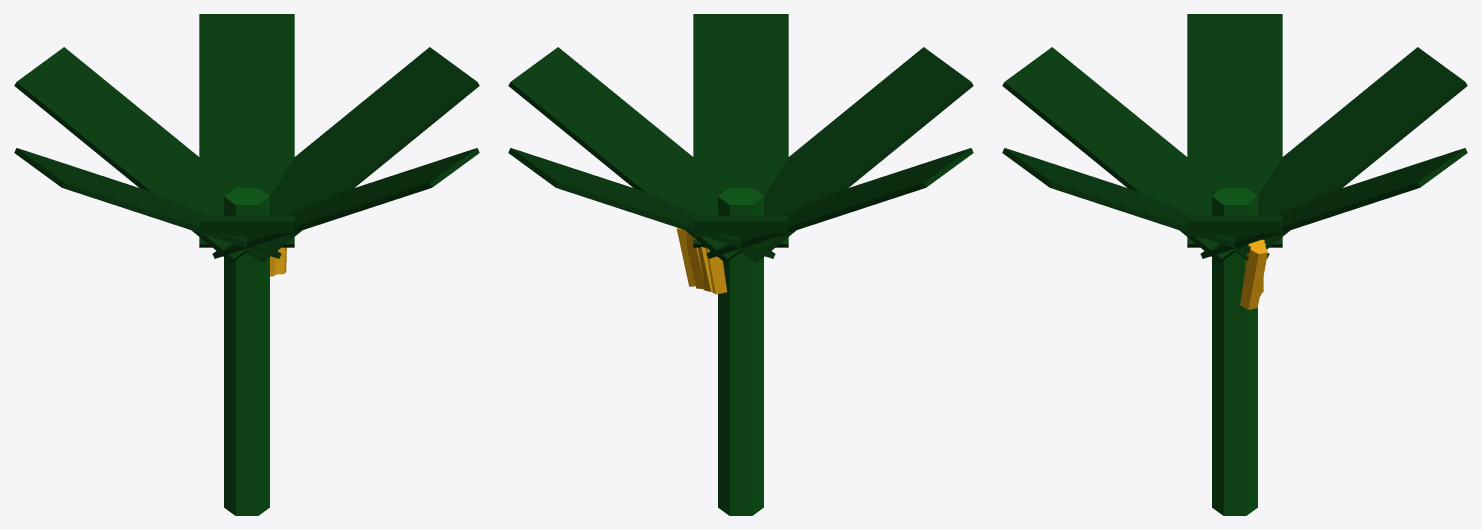
The model's file is banana_plant.obj.
3 views of the same model, side by side, from view 1: azimuth 30°, elevation 25°; view 2: azimuth 150°, elevation 25°; view 3: azimuth 270°, elevation 25° (orthographic).
Visible parts, largest first — view 1: banana_plant; view 2: banana_plant; view 3: banana_plant.
Part boxes in pixels (x1,y1,x2,y2): banana_plant: (14,14,479,515); banana_plant: (508,14,973,515); banana_plant: (1002,14,1467,515).
Bounding box in the file's own units: 2.53 × 2.27 × 2.44.
